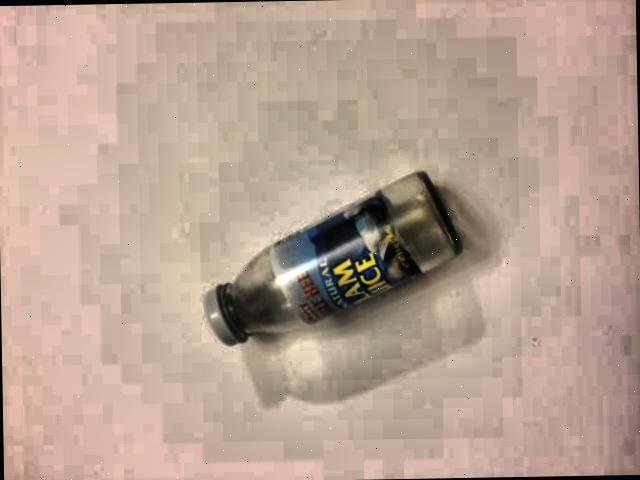Almennt: (202, 162, 466, 355)
